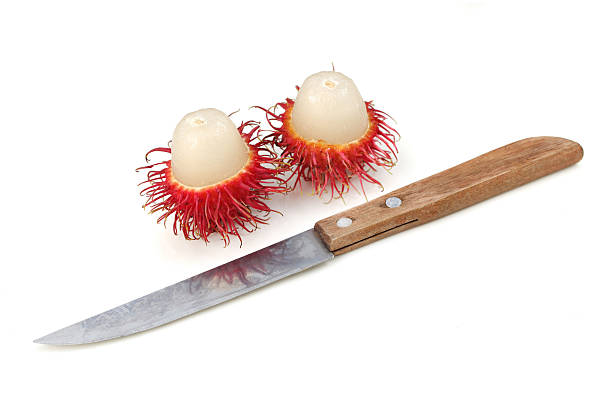knife: (31, 133, 585, 349)
